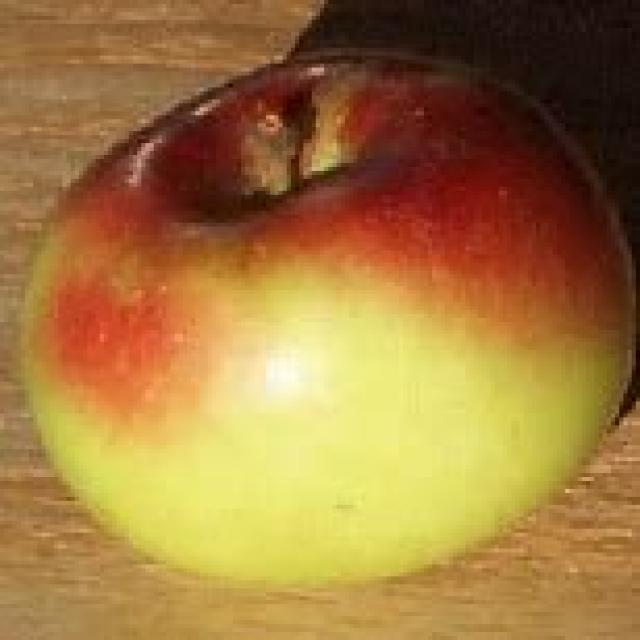apple: (19, 51, 640, 589)
